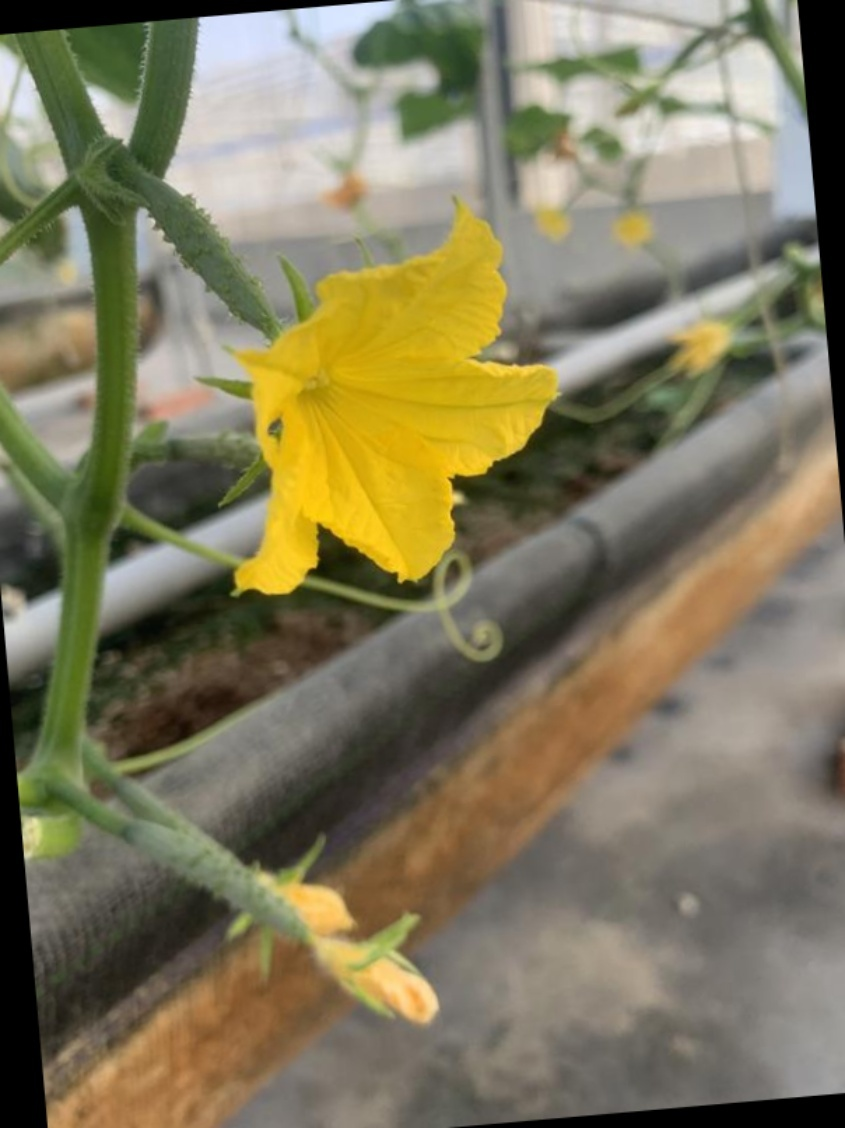flowering: (46, 158, 573, 607)
